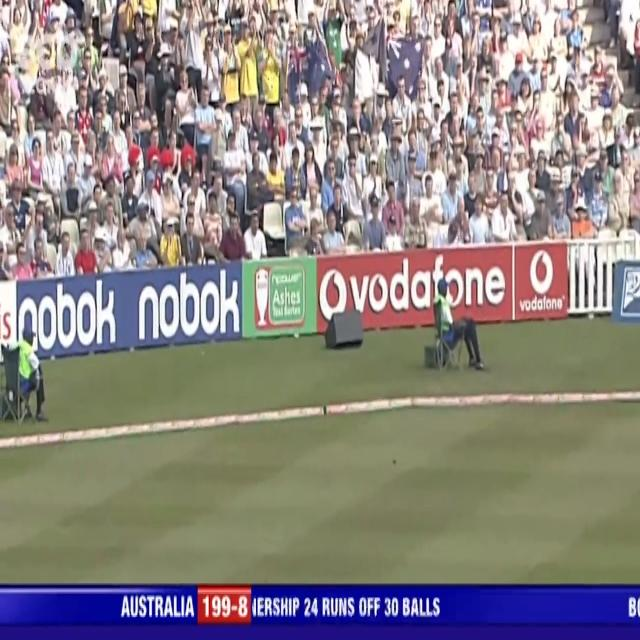ball: (390, 455, 399, 468)
